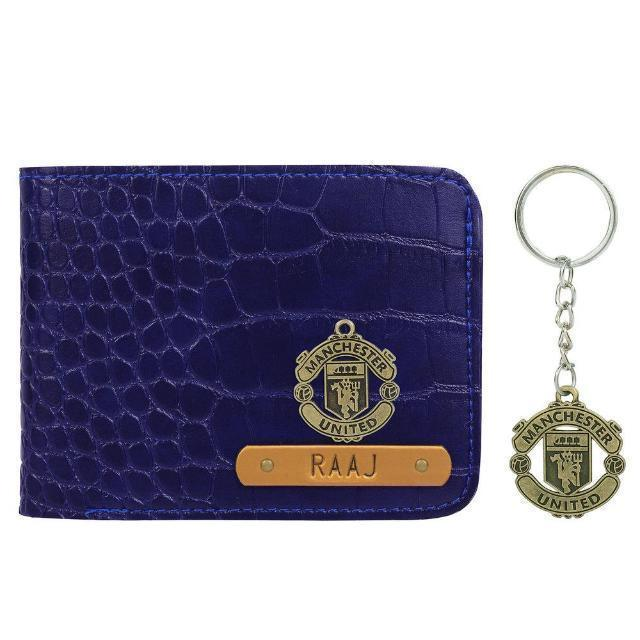wallet: (13, 157, 483, 529)
